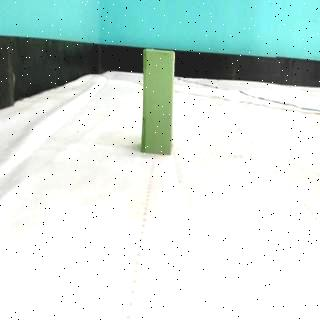greenbox: (140, 47, 178, 156)
